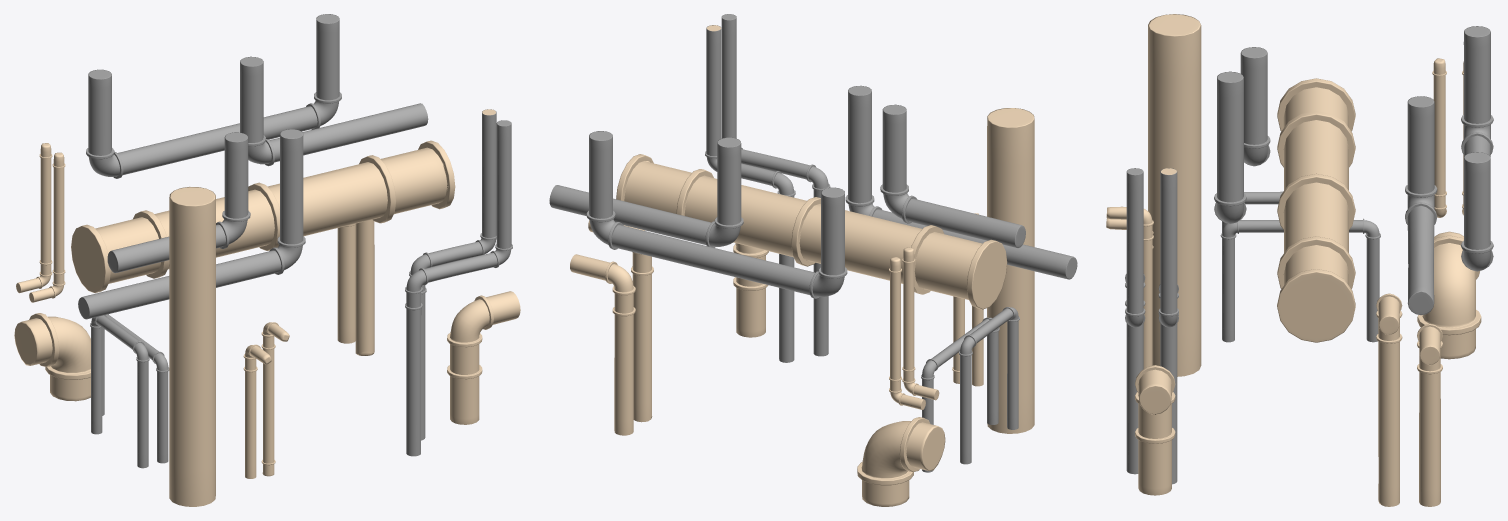
File: pipes.fbx
The picture shows the model from 3 angles, left to right: view 1: azimuth 30°, elevation 25°; view 2: azimuth 150°, elevation 25°; view 3: azimuth 270°, elevation 25°; orthographic projection. The views are drawn at different scales.
Visible parts, largest first — view 1: pipes; view 2: pipes; view 3: pipes.
Part boxes in pixels (left/top/right/bottom): pipes: left=14, top=14, right=520, bottom=506; pipes: left=549, top=14, right=1077, bottom=506; pipes: left=1106, top=14, right=1493, bottom=506.
Size of the model in its own units: 13.66 by 9.73 by 9.56.
